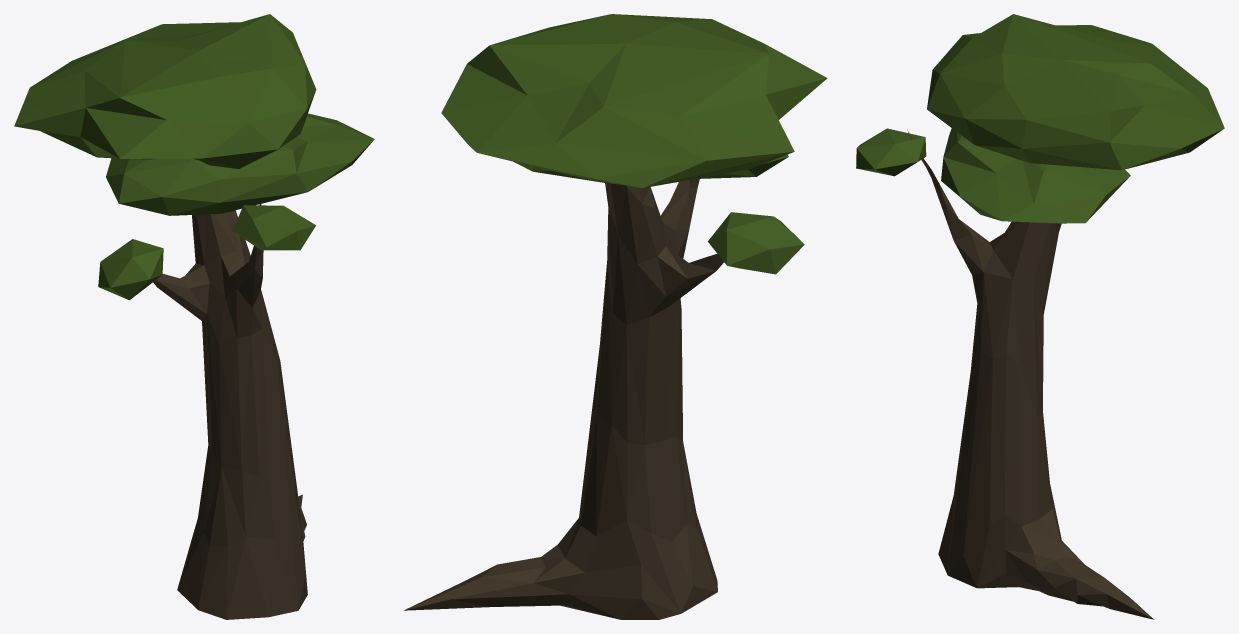
Rendered from SM_tree_b_01.fbx.
3 views of the same model, side by side, from view 1: azimuth 30°, elevation 25°; view 2: azimuth 150°, elevation 25°; view 3: azimuth 270°, elevation 25° (orthographic). The views are drawn at different scales.
Visible parts, largest first — view 1: Object185; view 2: Object185; view 3: Object185.
Part boxes in pixels (left/top/right/bottom): Object185: left=14, top=14, right=374, bottom=619; Object185: left=404, top=14, right=827, bottom=619; Object185: left=856, top=14, right=1224, bottom=619.
Bounding box in the file's own units: 181 × 190 × 284.
